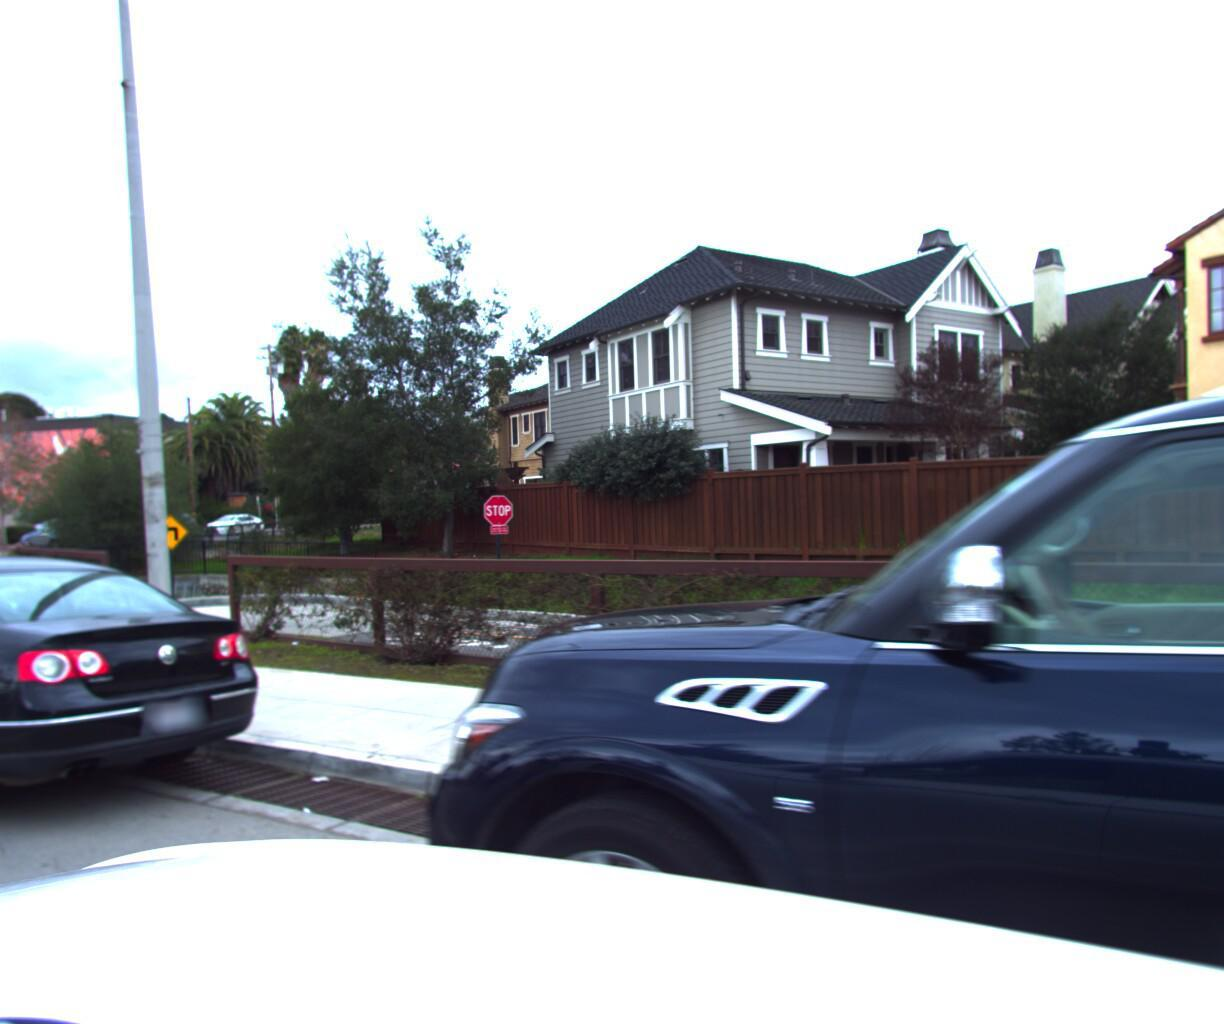car: (0, 540, 287, 859), (200, 511, 267, 536)
